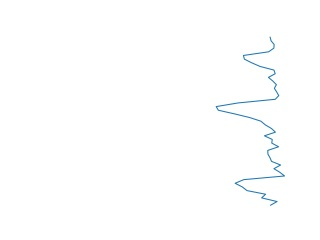underwaterNaturalLevee: (214, 35, 287, 210)
